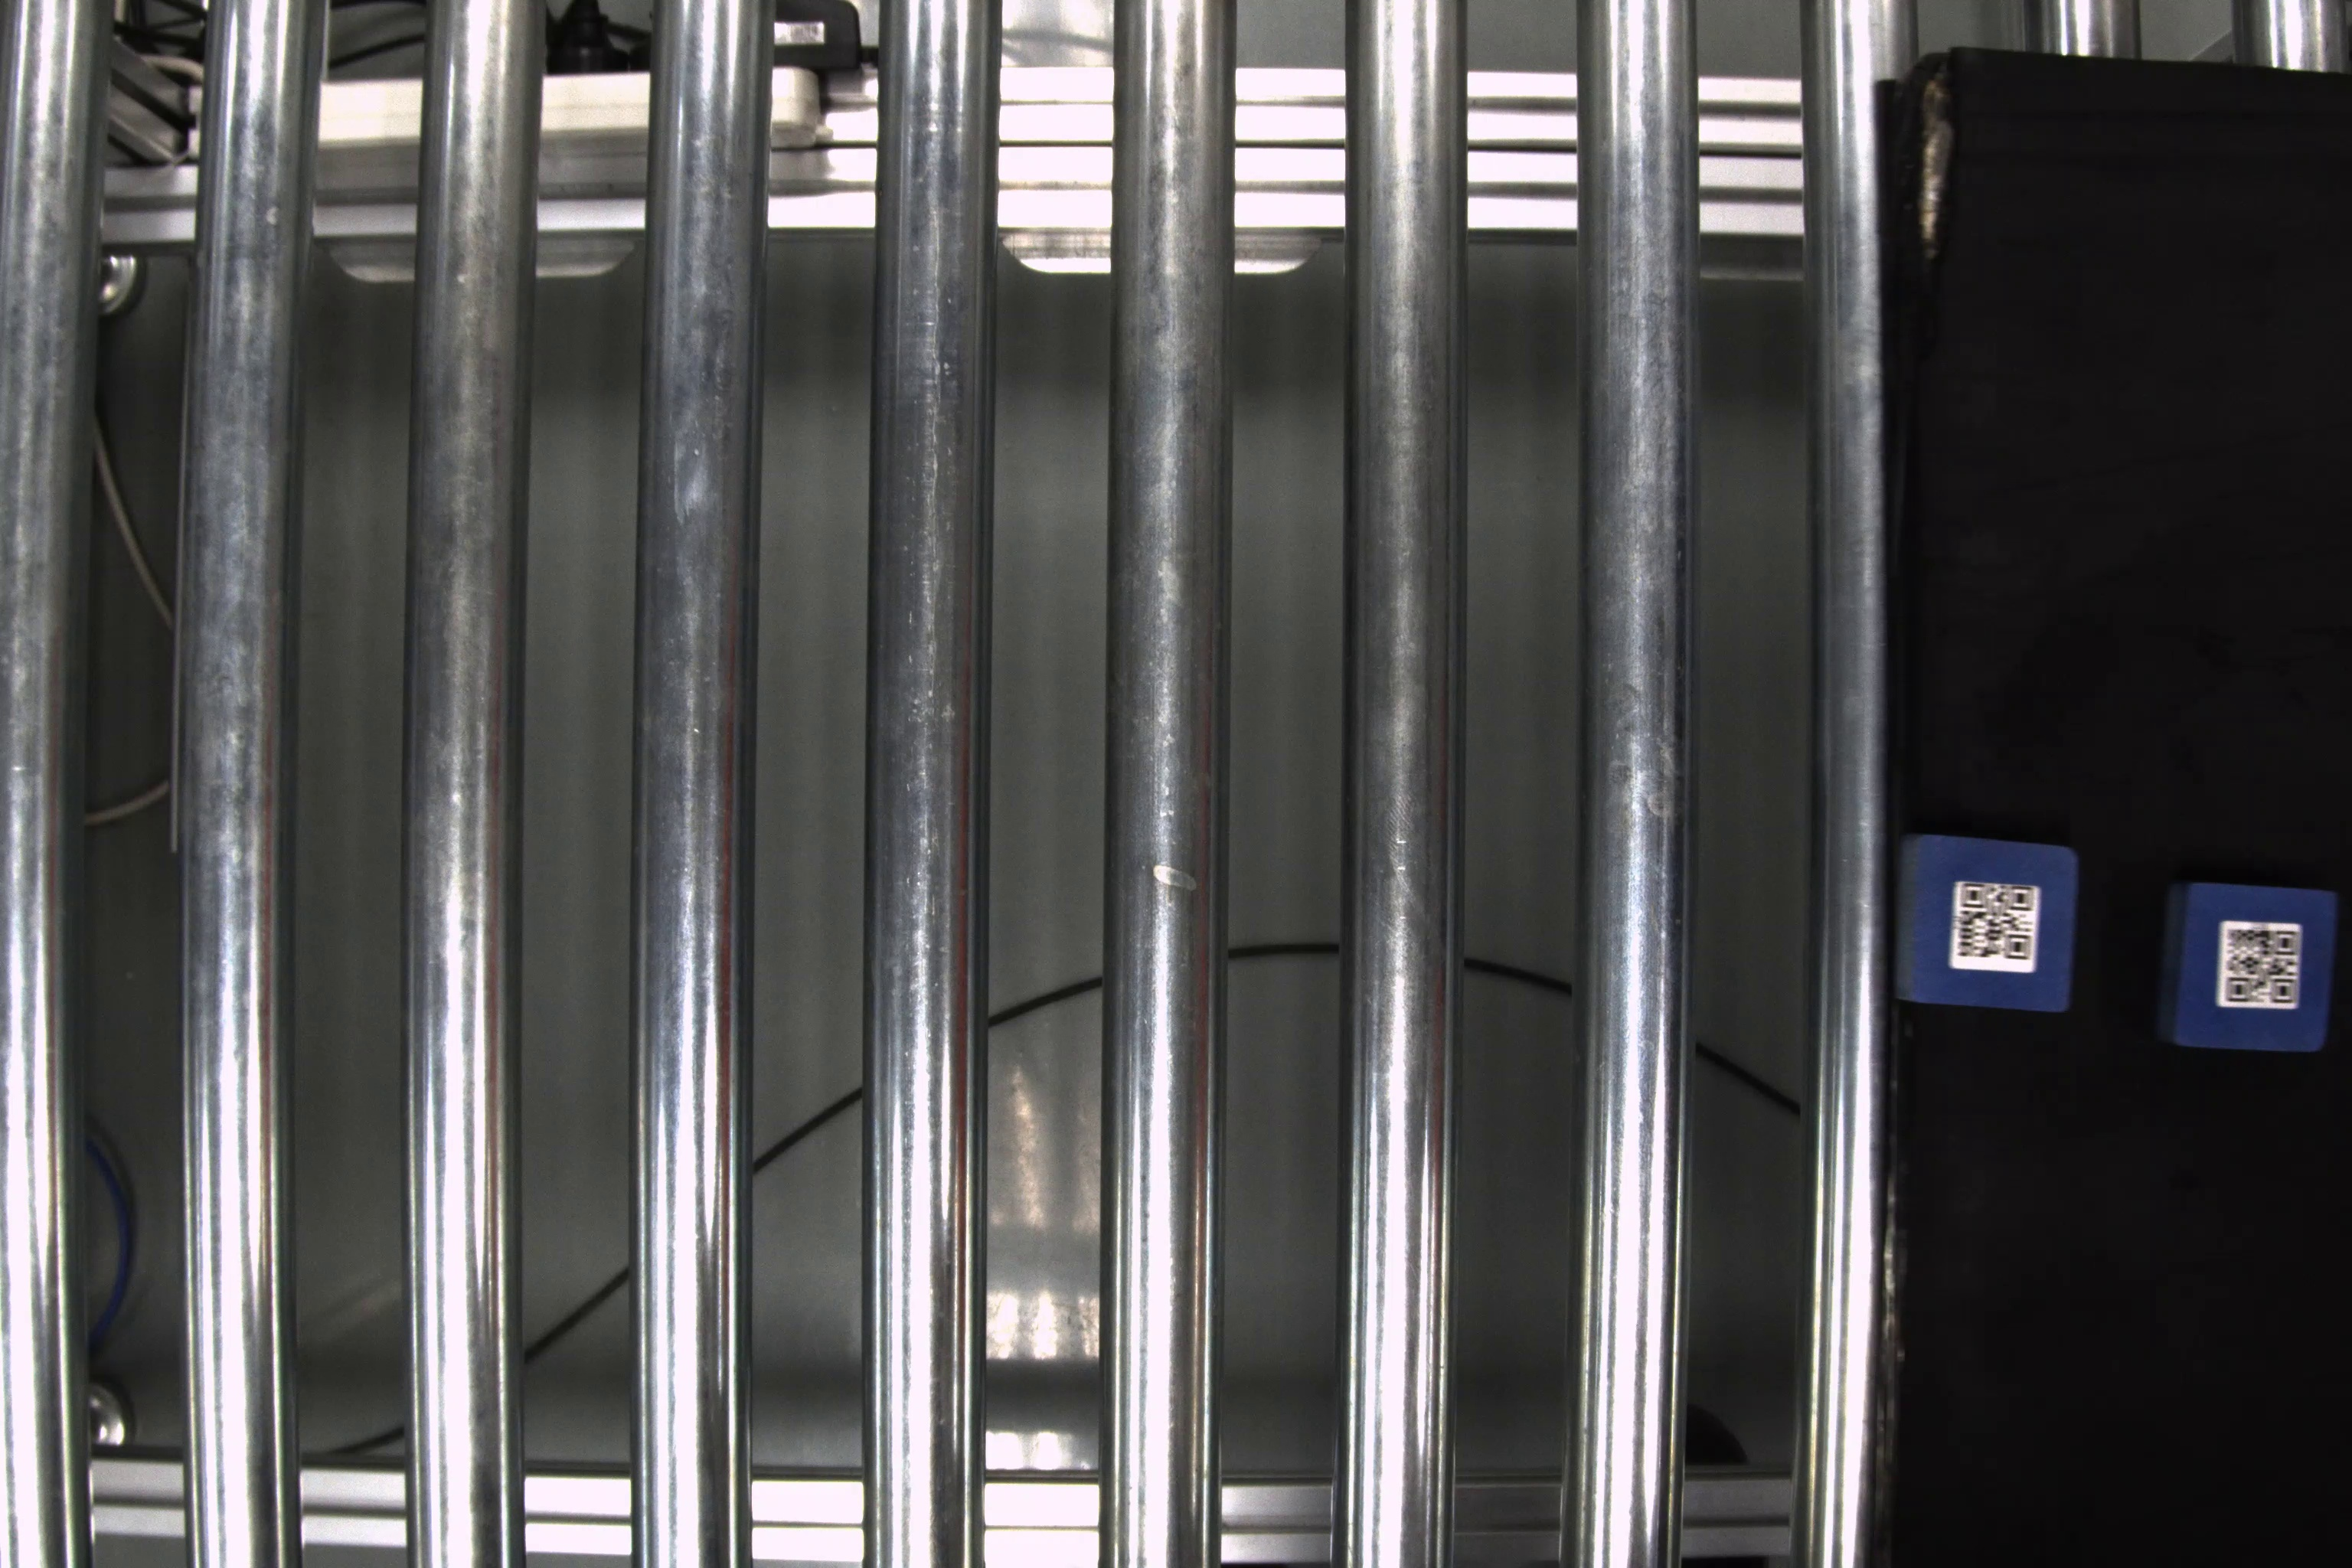wood: (2149, 877, 2343, 1059), (1897, 826, 2081, 1017)
